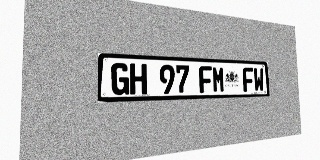7: (175, 65, 190, 94)
9: (159, 64, 175, 94)
F: (199, 66, 212, 93), (242, 67, 254, 92)
G: (111, 63, 129, 95)
H: (130, 63, 147, 95)
M: (212, 66, 225, 93)
W: (253, 68, 264, 92)
